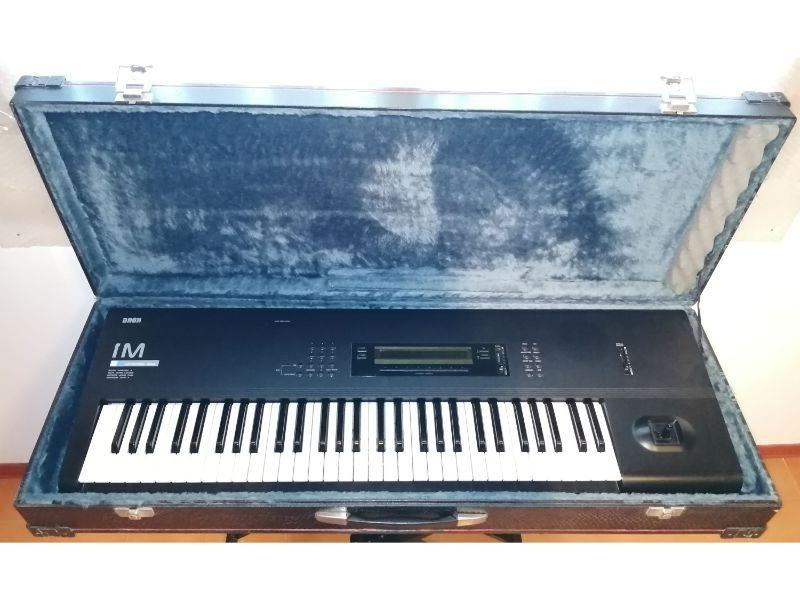synthesizer: (73, 298, 744, 496)
